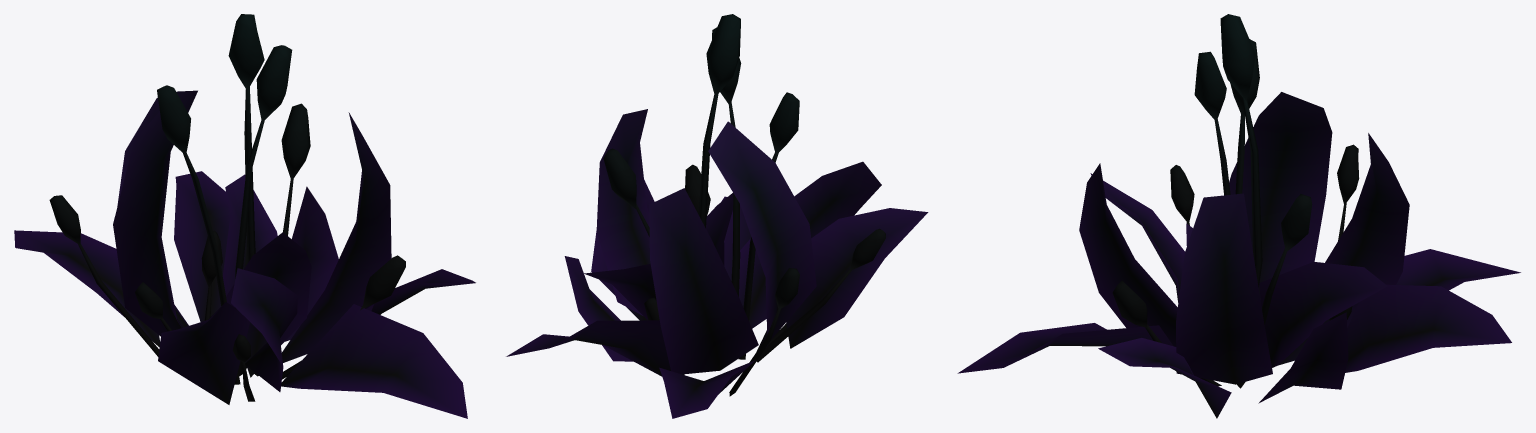
The model's file is TSI_Plant_06A.fbx.
The picture shows the model from 3 angles, left to right: view 1: azimuth 30°, elevation 25°; view 2: azimuth 150°, elevation 25°; view 3: azimuth 270°, elevation 25°; orthographic projection. The views are drawn at different scales.
Parts seen in each view (by area): view 1: TSI_Plant_06A_LOD0; view 2: TSI_Plant_06A_LOD0; view 3: TSI_Plant_06A_LOD0.
Part boxes in pixels (x1,y1,x2,y2): TSI_Plant_06A_LOD0: [14, 14, 475, 418]; TSI_Plant_06A_LOD0: [506, 14, 928, 418]; TSI_Plant_06A_LOD0: [957, 14, 1520, 418].
Bounding box in the file's own units: 78.64 × 88.23 × 124.
